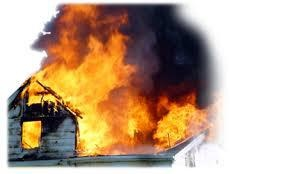fire: (22, 3, 216, 159), (20, 118, 43, 147)
